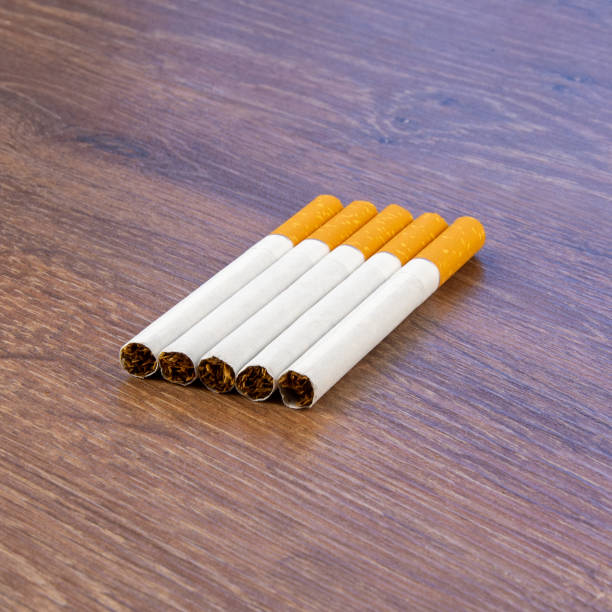cigarette: (117, 190, 343, 381), (194, 203, 413, 393), (157, 198, 379, 385), (233, 208, 447, 401), (277, 215, 486, 410)
